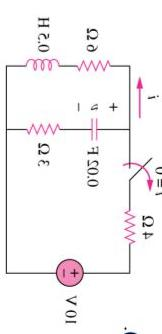Capacitor: (85, 111, 108, 140)
